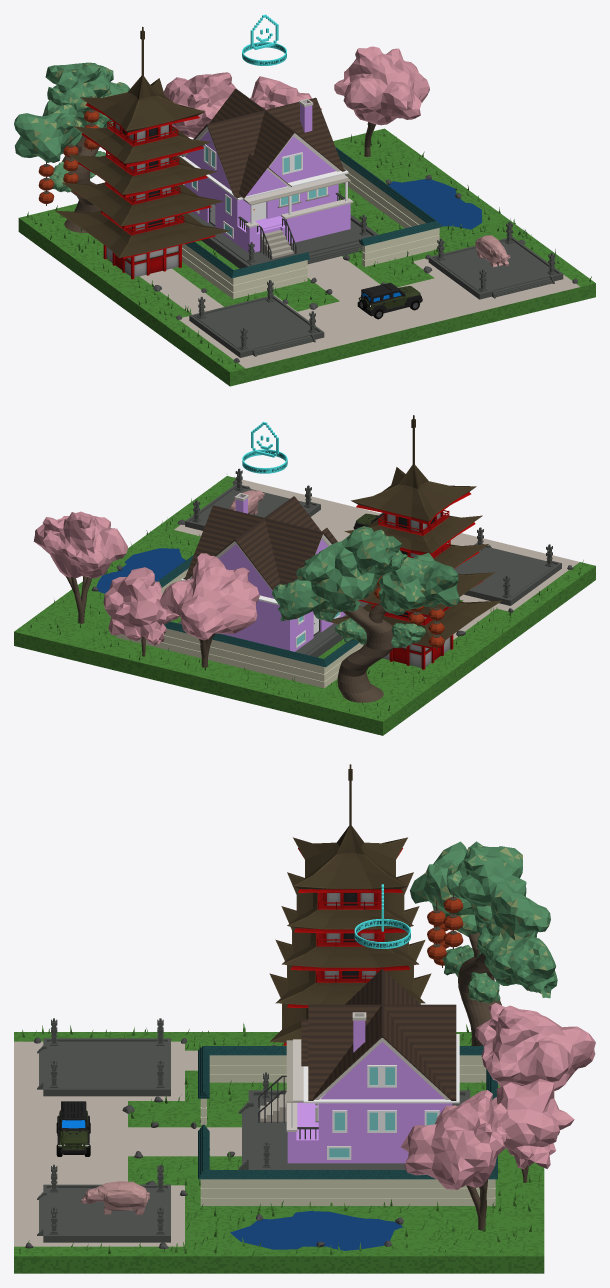
The picture shows the model from 3 angles, top to bottom: view 1: azimuth 30°, elevation 25°; view 2: azimuth 150°, elevation 25°; view 3: azimuth 270°, elevation 25°; orthographic projection. The views are drawn at different scales.
Visible parts, largest first — view 1: Cube.005, Cube.391, VEHICLES_JEEP, TYPE_PREMIUM, ANIMAL_HIPOPOTAMO; view 2: Cube.005, Cube.391, TYPE_PREMIUM; view 3: Cube.005, Cube.391, VEHICLES_JEEP, ANIMAL_HIPOPOTAMO, TYPE_PREMIUM.
Part boxes in pixels (x1=…): Cube.005: x1=14, y1=26, x2=595, y2=386; Cube.391: x1=178, y1=88, x2=353, y2=259; VEHICLES_JEEP: x1=357, y1=282, x2=422, y2=319; TYPE_PREMIUM: x1=242, y1=14, x2=286, y2=65; ANIMAL_HIPOPOTAMO: x1=475, y1=235, x2=510, y2=267; Cube.005: x1=14, y1=415, x2=595, y2=735; Cube.391: x1=181, y1=493, x2=345, y2=651; TYPE_PREMIUM: x1=242, y1=421, x2=287, y2=473; Cube.005: x1=14, y1=764, x2=595, y2=1273; Cube.391: x1=258, y1=969, x2=459, y2=1163; VEHICLES_JEEP: x1=56, y1=1101, x2=90, y2=1156; ANIMAL_HIPOPOTAMO: x1=81, y1=1181, x2=149, y2=1215; TYPE_PREMIUM: x1=354, y1=884, x2=410, y2=948.
Bounding box in the file's own units: 4528 × 2706 × 4389.
39 materials, 6 textured.
